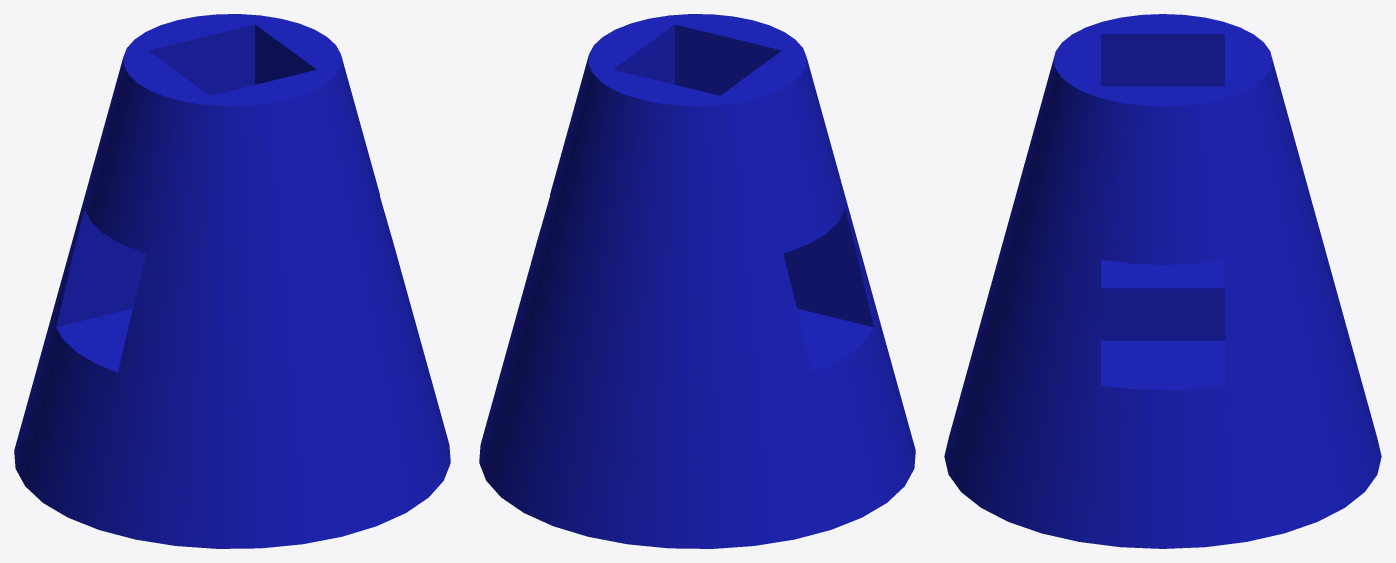
File: var_23.glb
The picture shows the model from 3 angles, left to right: view 1: azimuth 30°, elevation 25°; view 2: azimuth 150°, elevation 25°; view 3: azimuth 270°, elevation 25°; orthographic projection.
Parts seen in each view (by area): view 1: Cylinder; view 2: Cylinder; view 3: Cylinder.
Part boxes in pixels (x1,y1,x2,y2): Cylinder: [14, 14, 450, 548]; Cylinder: [479, 14, 915, 548]; Cylinder: [944, 14, 1381, 548].
Size of the model in its own units: 2 by 2 by 2.
